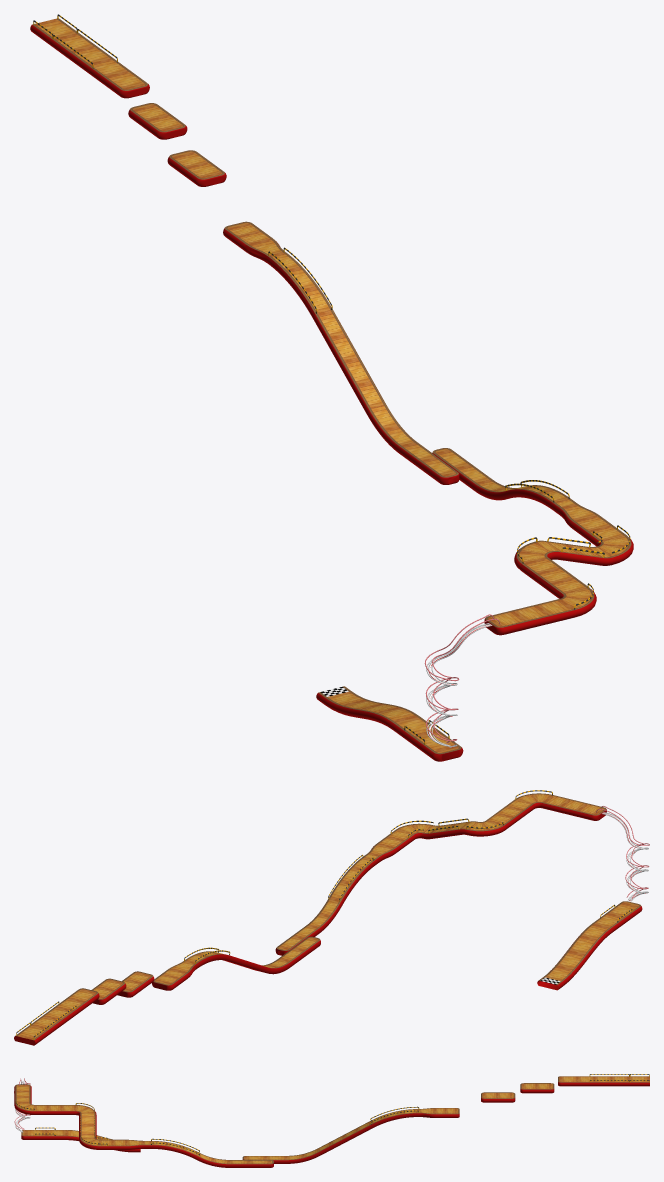
Rendered from map23.fbx.
The picture shows the model from 3 angles, top to bottom: view 1: azimuth 30°, elevation 25°; view 2: azimuth 150°, elevation 25°; view 3: azimuth 270°, elevation 25°; orthographic projection. The views are drawn at different scales.
Parts seen in each view (by area): view 1: Terrain_Flat_Narrow_9, Terrain_Flat_BarStart_3, Terrain_CurveDown_Bar_1, Terrain_Flat_2__1_, Terrain_CurveDown_Narrow_Bar_3, Terrain_Flat_2, Terrain_Flat_Bar_11, Terrain_CurveDown_Narrow_1, Terrain_Flat_Narrow_10; view 2: Terrain_CurveDown_Bar_1, Terrain_Flat_BarStart_3, Terrain_Flat_2__1_, Terrain_CurveUp_Narrow_3_2, Terrain_Flat_2, Terrain_Flat_Bar_11, Terrain_CurveUp_Narrow_3_1, Terrain_Flat_Narrow_10, Terrain_Flat_BarStart_2, Dummy_Start_1, Terrain_Left_Flat_Bar_2, Terrain_Flat_Narrow_11 (+4 smaller); view 3: Terrain_Flat_BarStart_3, Terrain_Flat_Narrow_9, Terrain_Flat_Bar_11, Terrain_CurveUp_Narrow_3_2, Terrain_CurveDown_Narrow_Bar_3, Terrain_Flat_2, Terrain_CurveUp_Bar_2, Terrain_Flat_Narrow_11, Terrain_Flat_3_1, Terrain_Flat_2__1_, Terrain_Flat_3, Terrain_Flat_BarStart_2 (+10 smaller).
Part boxes in pixels (x1,y1,x2,y2): Terrain_Flat_Narrow_9: [313, 310, 385, 412]; Terrain_Flat_BarStart_3: [50, 33, 146, 95]; Terrain_CurveDown_Bar_1: [323, 691, 418, 729]; Terrain_Flat_2__1_: [489, 599, 575, 634]; Terrain_CurveDown_Narrow_Bar_3: [266, 252, 332, 317]; Terrain_Flat_2: [520, 557, 588, 598]; Terrain_Flat_Bar_11: [391, 716, 459, 758]; Terrain_CurveDown_Narrow_1: [366, 404, 416, 452]; Terrain_Flat_Narrow_10: [398, 442, 456, 482]; Terrain_CurveDown_Bar_1: [543, 923, 612, 985]; Terrain_Flat_BarStart_3: [31, 989, 98, 1033]; Terrain_Flat_2__1_: [541, 795, 603, 820]; Terrain_CurveUp_Narrow_3_2: [329, 857, 375, 904]; Terrain_Flat_2: [486, 799, 535, 829]; Terrain_Flat_Bar_11: [592, 902, 641, 932]; Terrain_CurveUp_Narrow_3_1: [306, 899, 342, 933]; Terrain_Flat_Narrow_10: [278, 938, 320, 966]; Terrain_Flat_BarStart_2: [377, 830, 415, 852]; Dummy_Start_1: [14, 1025, 50, 1045]; Terrain_Left_Flat_Bar_2: [465, 821, 505, 836]; Terrain_Flat_Narrow_11: [277, 925, 319, 949]; Terrain_Flat_BarStart_3: [561, 1076, 629, 1086]; Terrain_Flat_Narrow_9: [318, 1121, 372, 1155]; Terrain_Flat_Bar_11: [24, 1130, 65, 1139]; Terrain_CurveUp_Narrow_3_2: [151, 1141, 198, 1159]; Terrain_CurveDown_Narrow_Bar_3: [371, 1109, 418, 1127]; Terrain_Flat_2: [35, 1105, 75, 1114]; Terrain_CurveUp_Bar_2: [79, 1116, 96, 1136]; Terrain_Flat_Narrow_11: [229, 1160, 270, 1167]; Terrain_Flat_3_1: [484, 1092, 511, 1102]; Terrain_Flat_2__1_: [14, 1086, 31, 1103]; Terrain_Flat_3: [523, 1083, 550, 1093]; Terrain_Flat_BarStart_2: [99, 1139, 126, 1149].
Bounding box in the file's own units: 4702 × 4094 × 18638.
15 materials, 4 textured.
